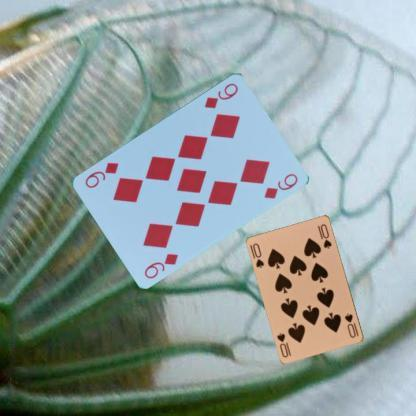10s: (342, 310, 360, 340), (250, 240, 266, 270)
9d: (201, 80, 239, 110), (142, 250, 180, 280)
